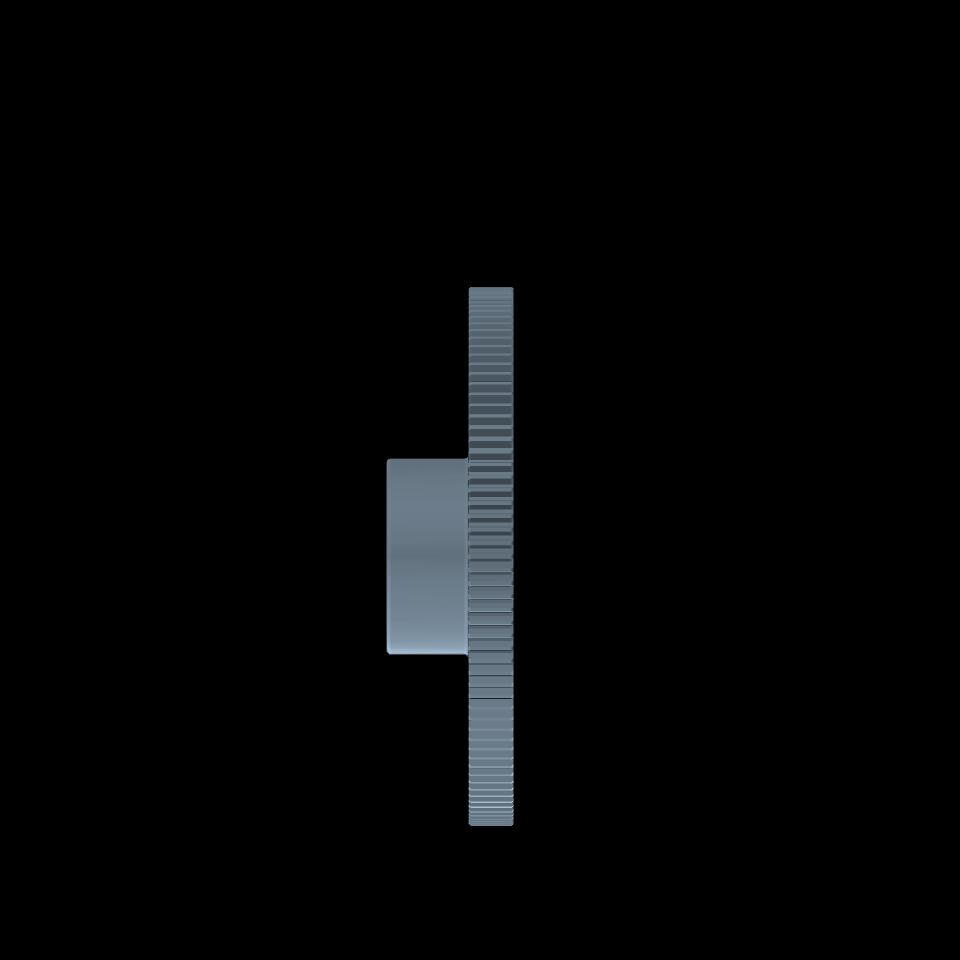Straight: (469, 285, 511, 825)
